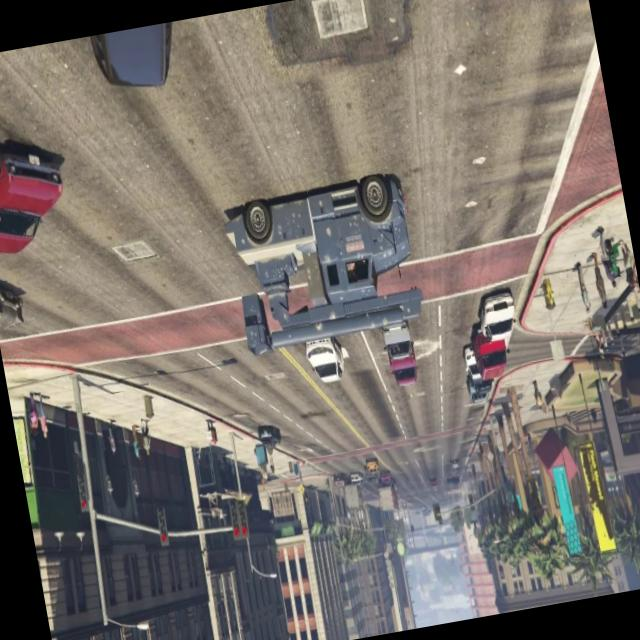Red-Signal: (222, 487, 254, 549), (150, 499, 176, 553), (71, 467, 92, 518)
